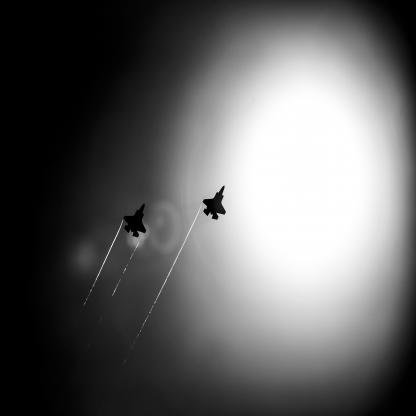F35: (124, 204, 148, 239), (203, 186, 227, 221)
